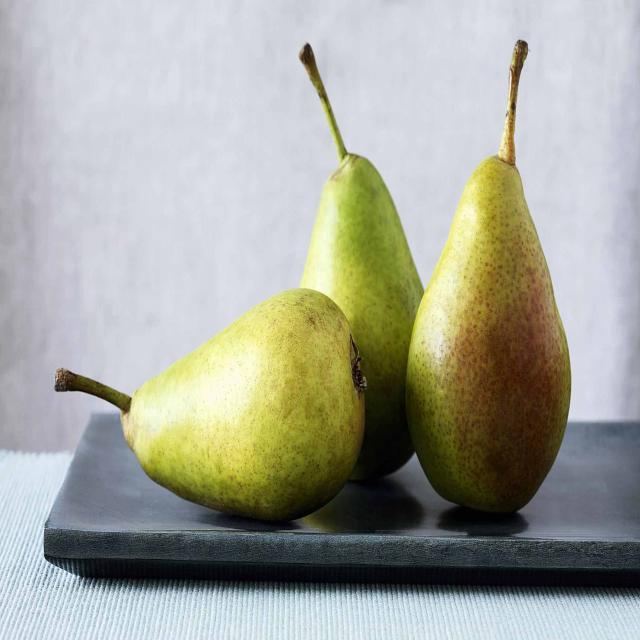Pear Overripe: (407, 40, 570, 512)
Pear Ripe: (56, 288, 366, 519)
